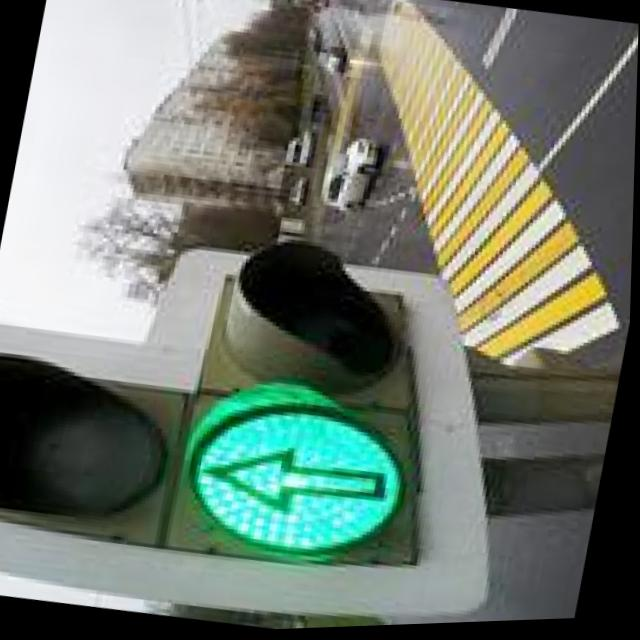green_light: (123, 362, 501, 605)
